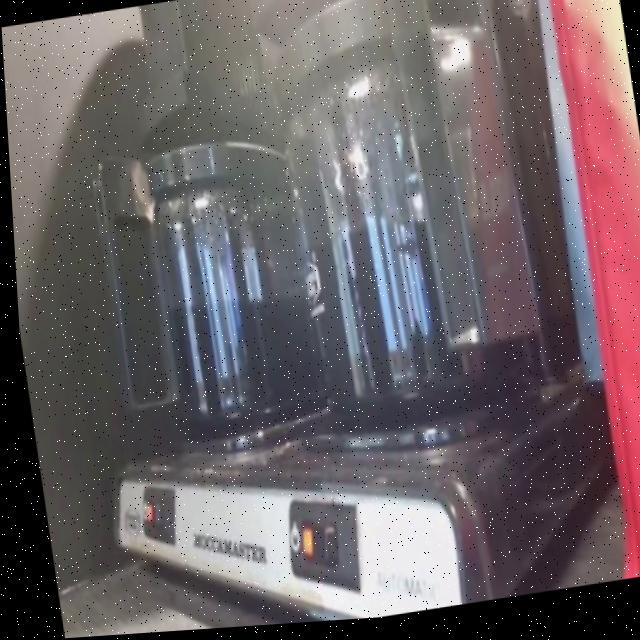coffee: (253, 0, 543, 455), (114, 114, 326, 451)
